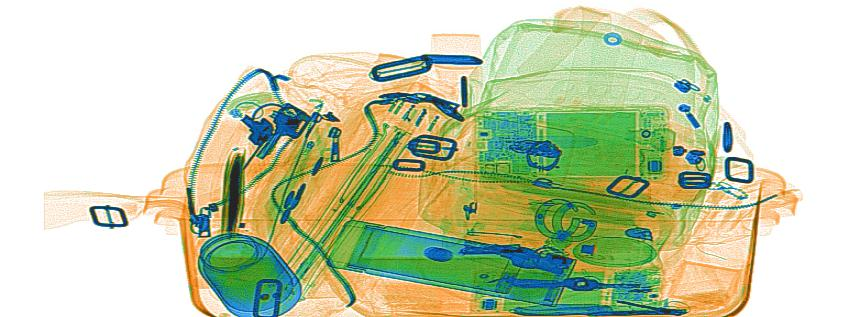knife: (509, 302, 615, 314)
